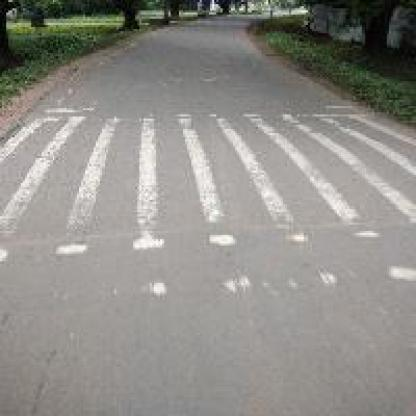Speed Bump: (2, 110, 410, 266)
